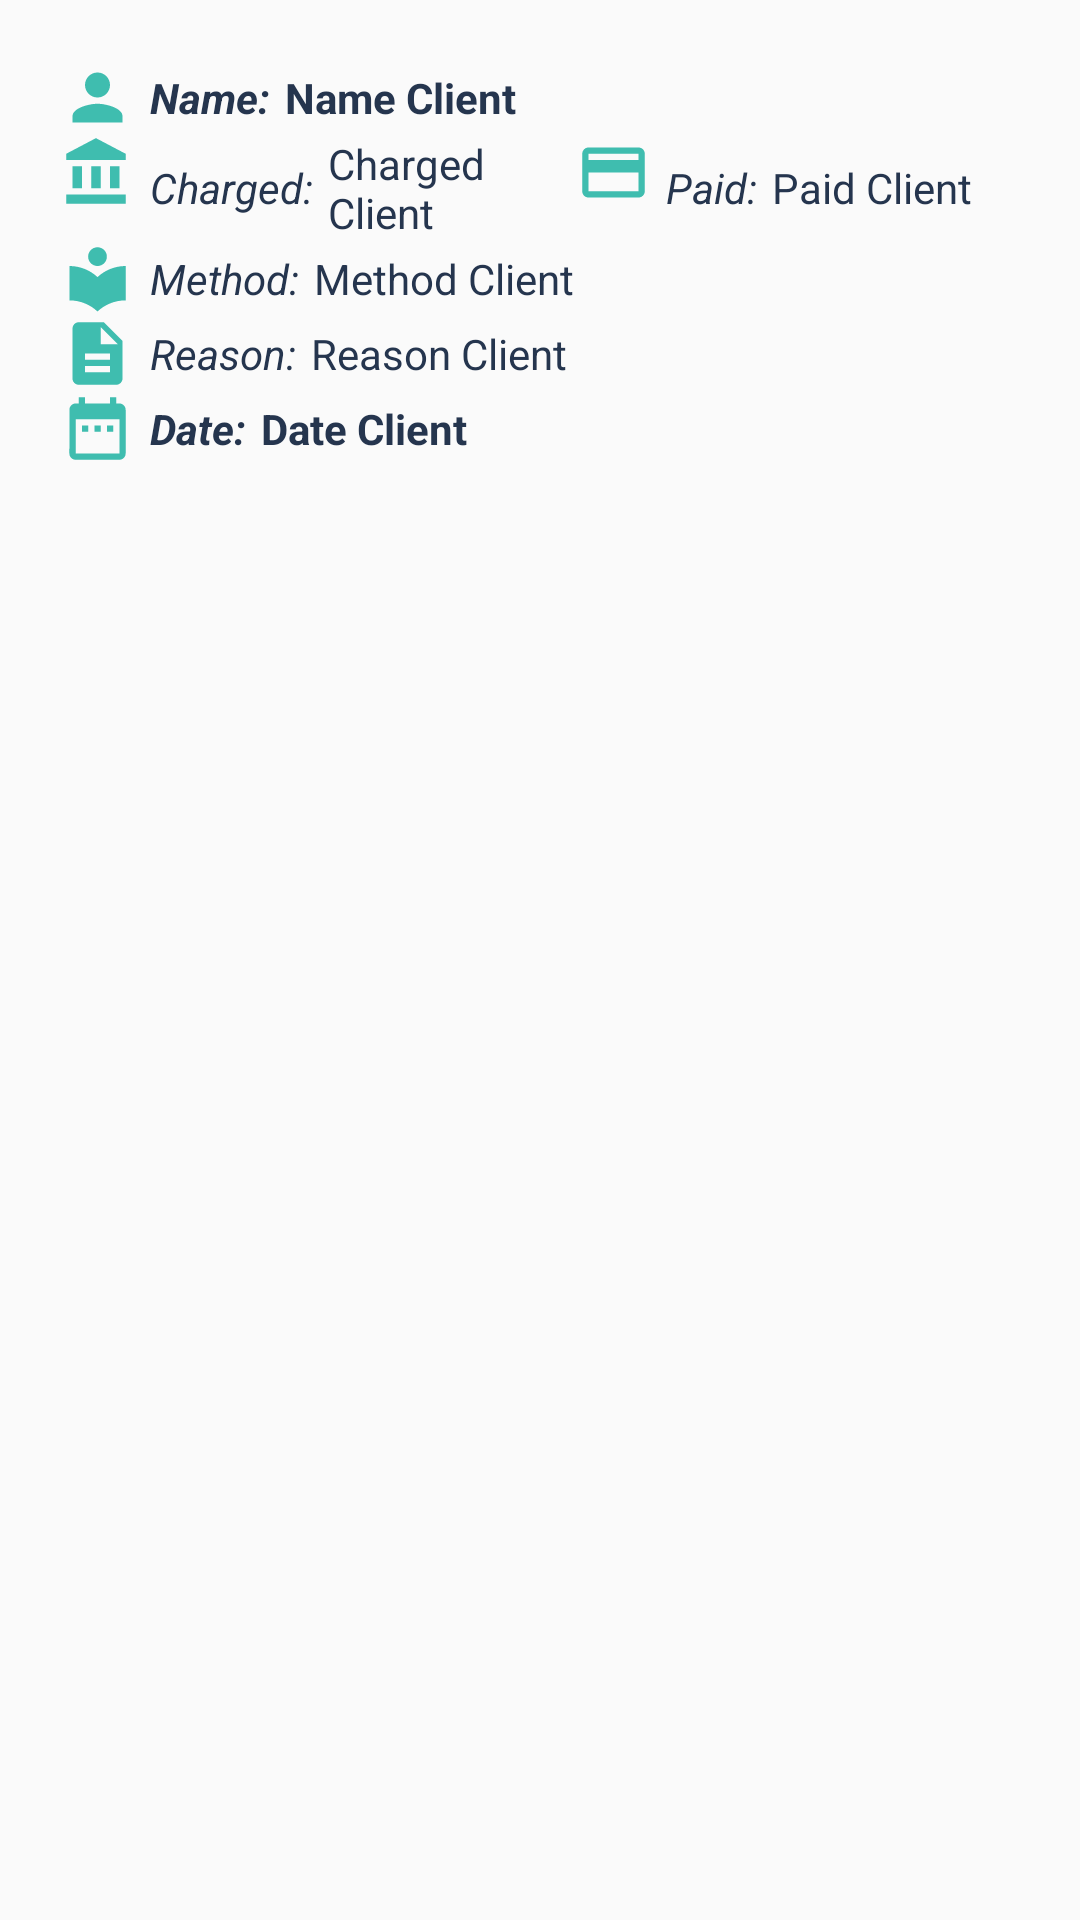

Named icons in this screenshot (1080 × 1920) and their bounding boxes, (x1, y1, x2, y2):
clients add activity calendar: (69, 397, 126, 460)
clients add activity client: (72, 72, 123, 123)
clients add activity description: (72, 322, 123, 385)
clients add activity payment: (582, 147, 645, 198)
clients add activity work: (69, 247, 126, 312)
